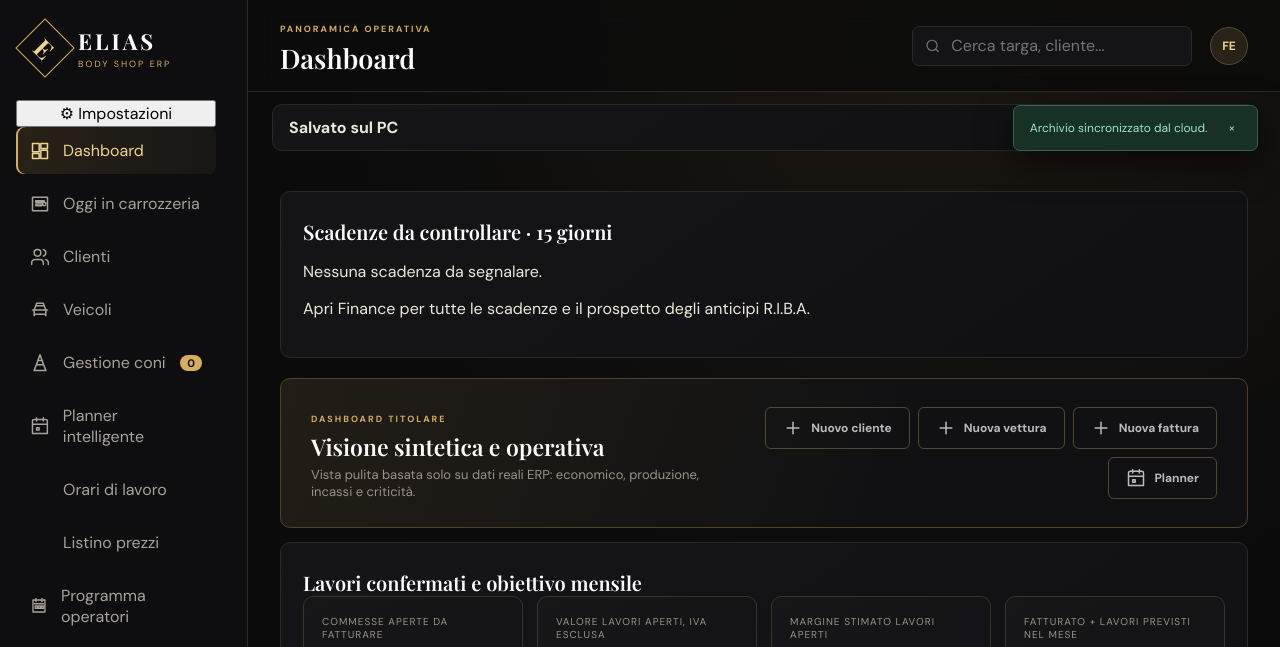
Test case: avvio e salvataggio cloud › carica il cloud con revisione locale 12 e payload remoto 10, anche in StrictMode
The image size is (1280, 647).
Expected: the text "Archivio sincronizzato dal cloud." is shown, [1030,120,1207,136]
Step 1. Click the button "Clienti" → (116, 256), box [16,233,216,280]
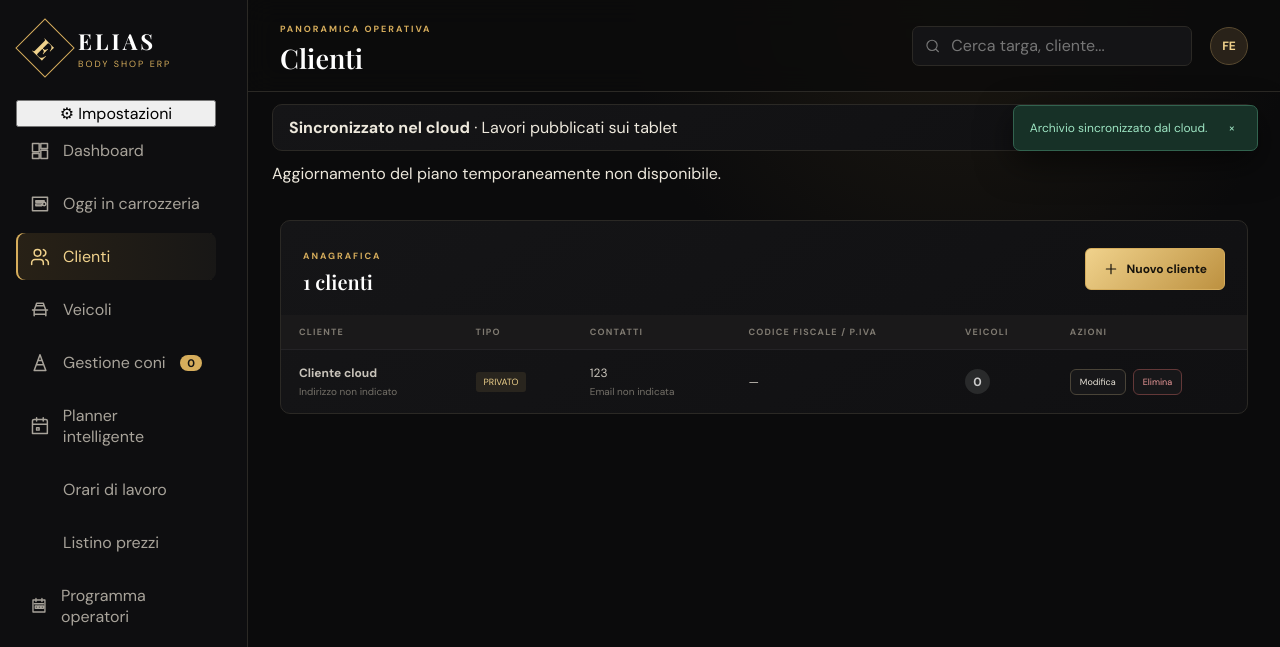
Expected: the text "Cliente cloud" is shown, [299,365,377,381]
